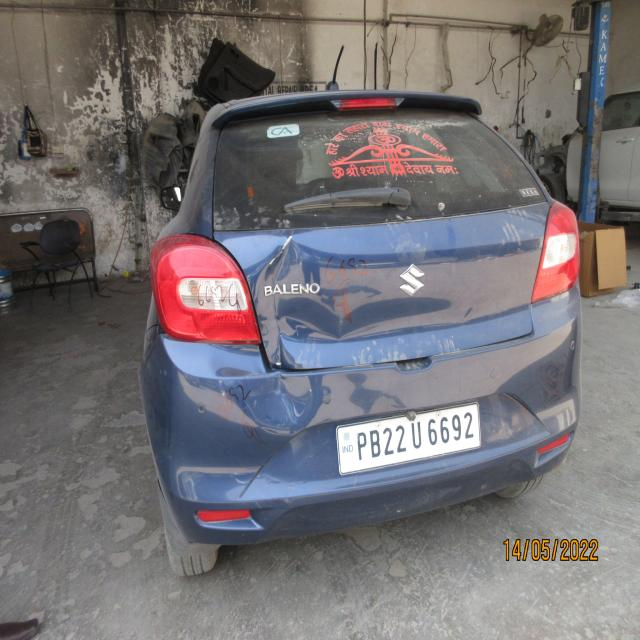damage: (250, 235, 344, 373), (217, 371, 328, 435), (135, 330, 172, 377), (275, 481, 300, 505)
